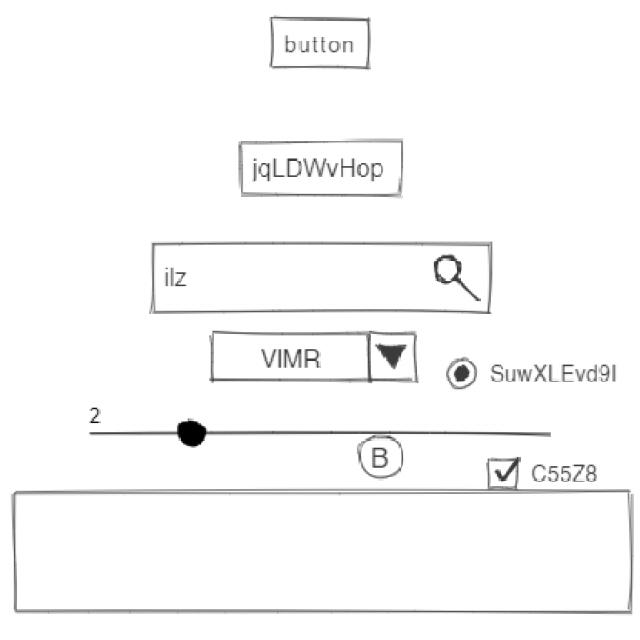button: (268, 14, 377, 74)
checkbox: (486, 455, 603, 492)
container: (10, 487, 638, 618)
icon-button: (358, 434, 407, 481)
input: (237, 136, 409, 200)
radio: (447, 357, 621, 392)
search: (149, 239, 498, 319)
select: (209, 328, 422, 389)
slider: (106, 417, 554, 452)
